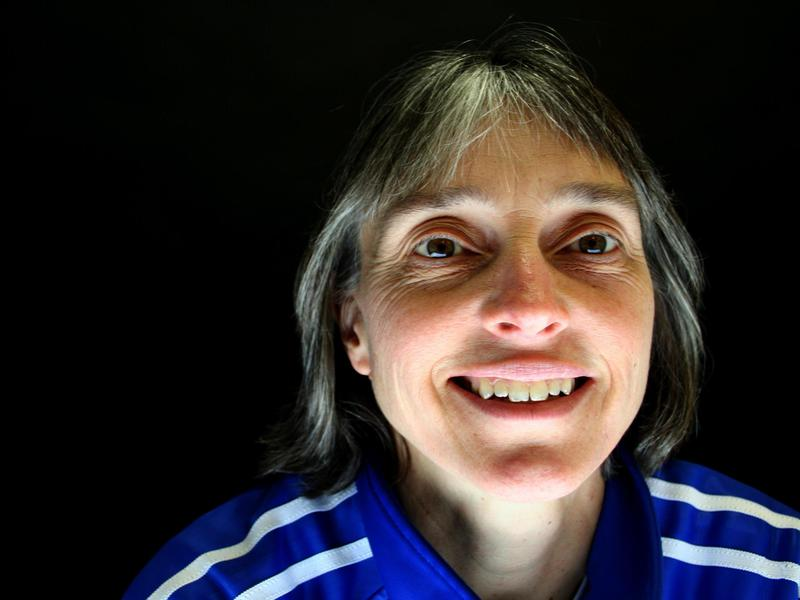person: (207, 33, 789, 600)
